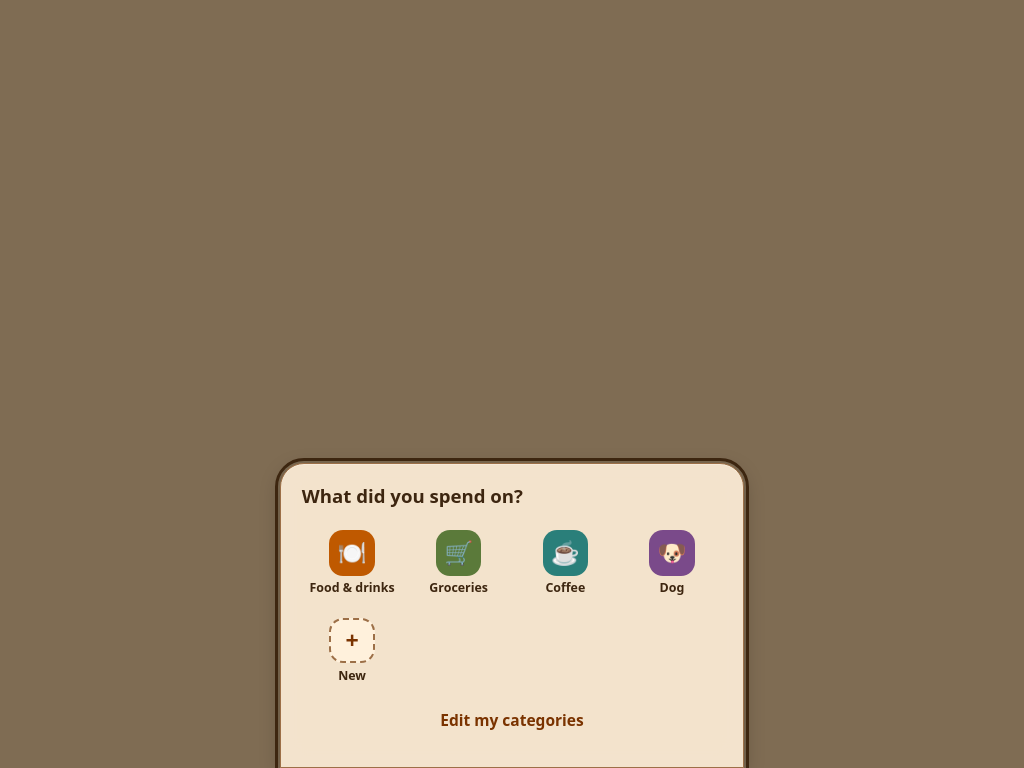
Test: PersonalSpendingSheet, refused saves › shows the translated message for MONEY_NOT_ON_CURRENCY_STEP above Save
Click the button "☕ Coffee" at (565, 563), box x1=515 y1=524 x2=616 y2=601
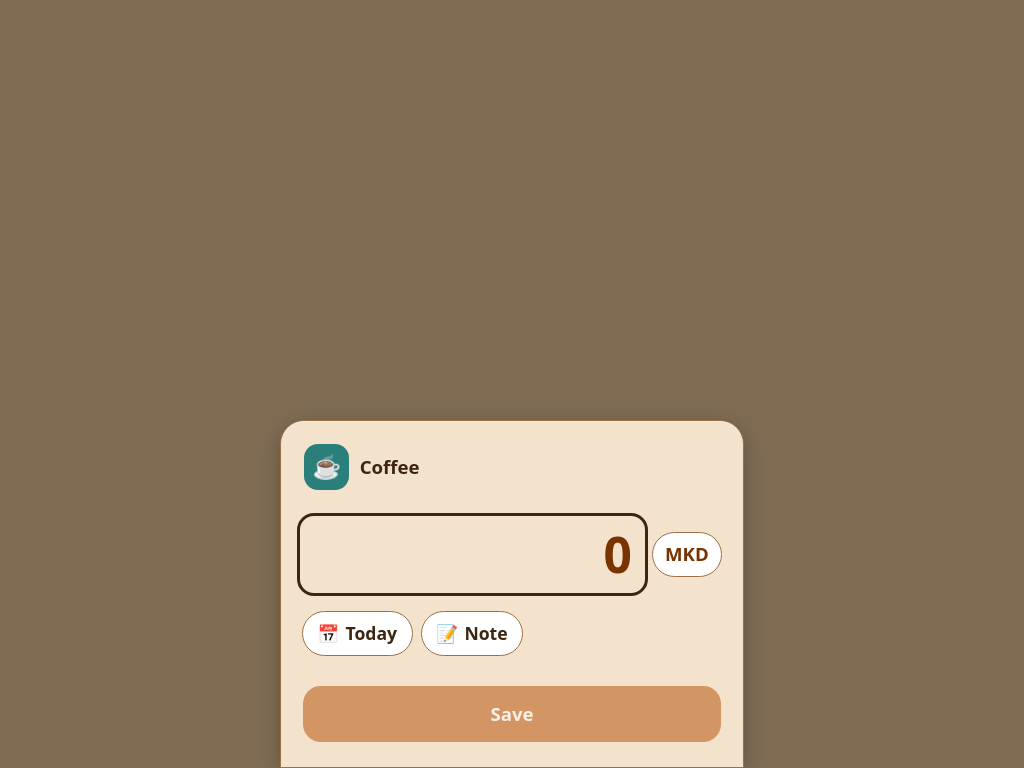
Type "120" into the field named "Amount" at (473, 554), box x1=300 y1=516 x2=646 y2=592
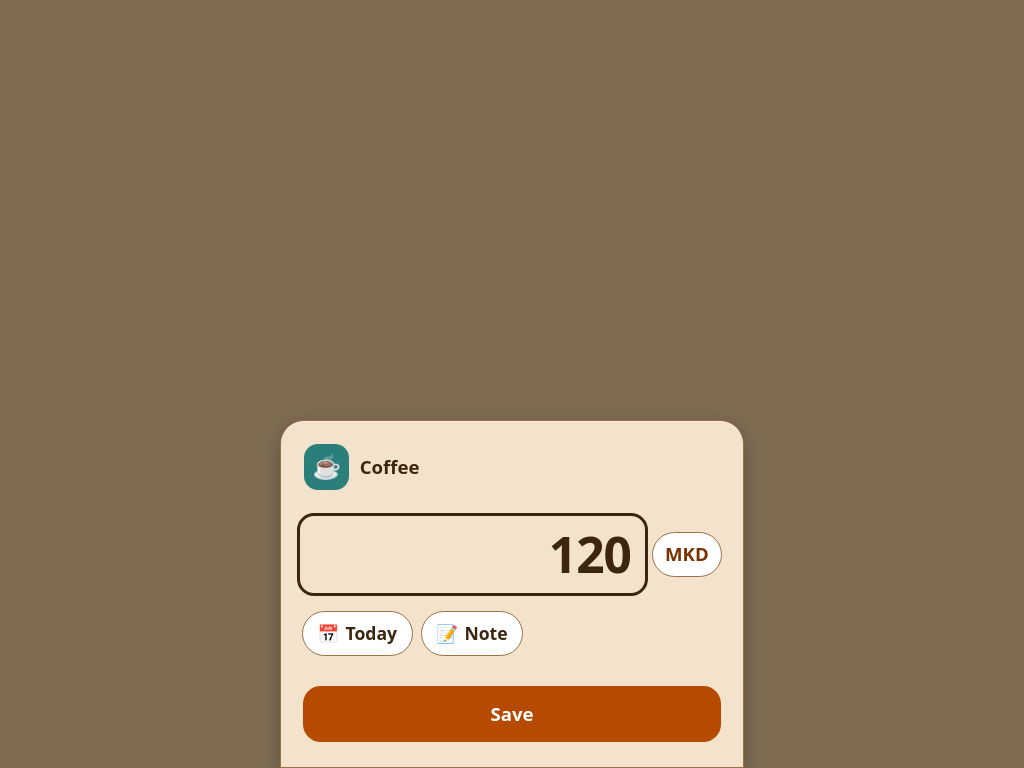
Click the button "📝 Note" at (472, 633), box x1=421 y1=610 x2=523 y2=656
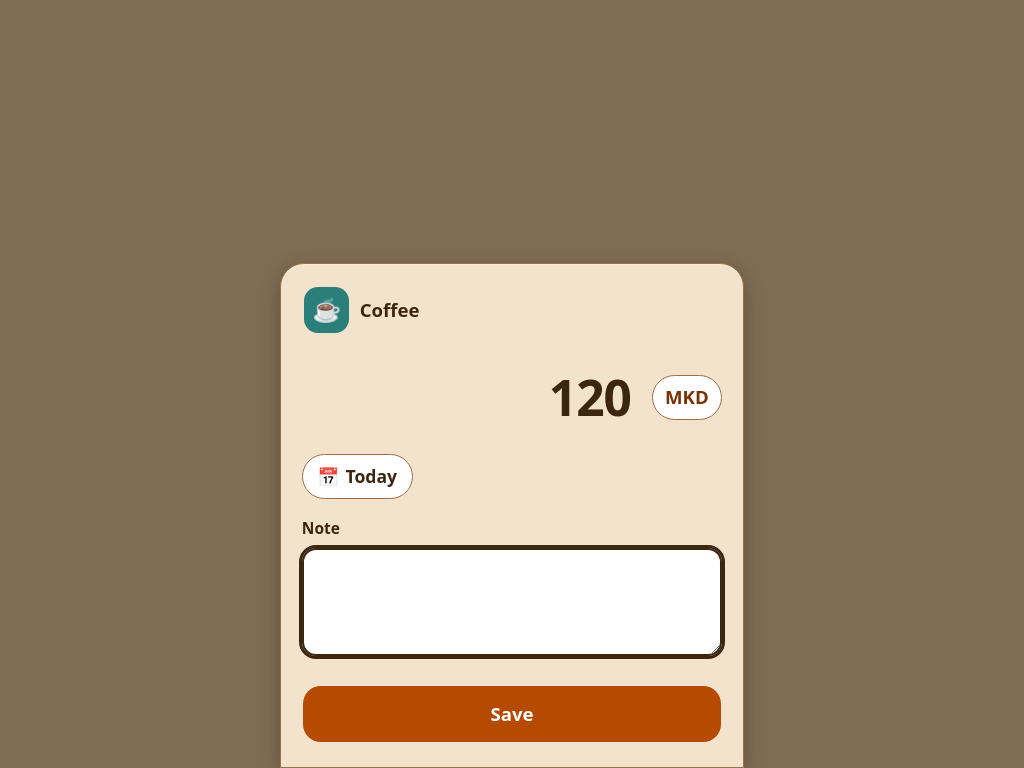
Type "for the office" into the text box labelled "Note" at (512, 602), box x1=302 y1=548 x2=722 y2=656
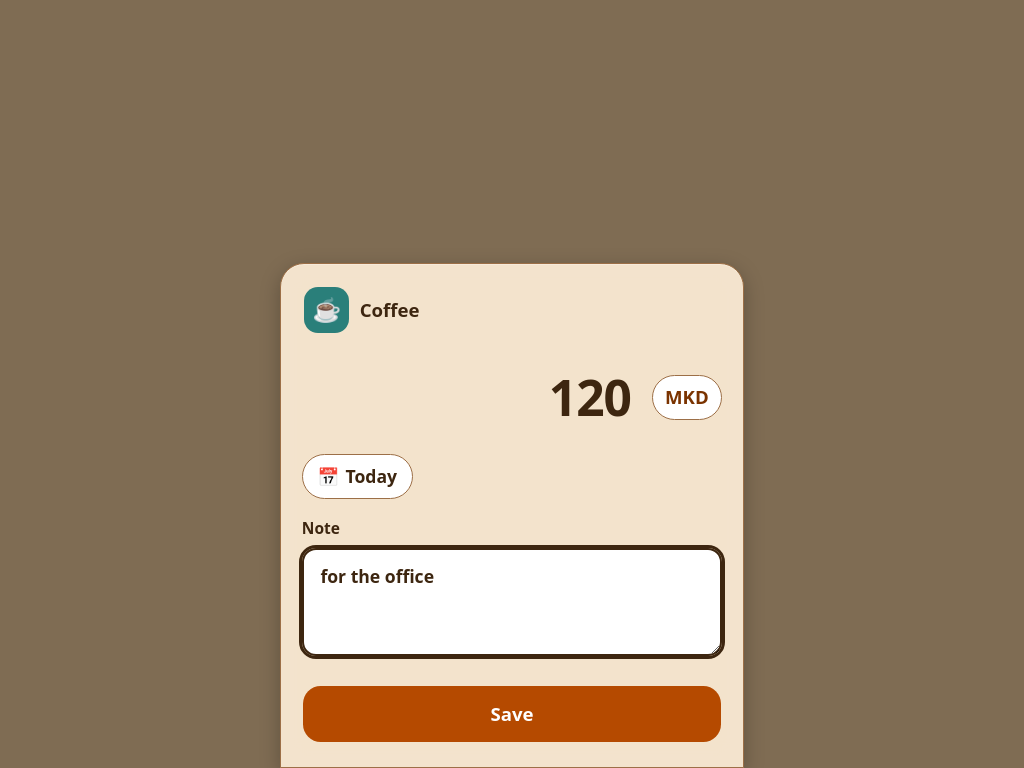
Click the button "Save" at (512, 714), box x1=302 y1=685 x2=722 y2=743
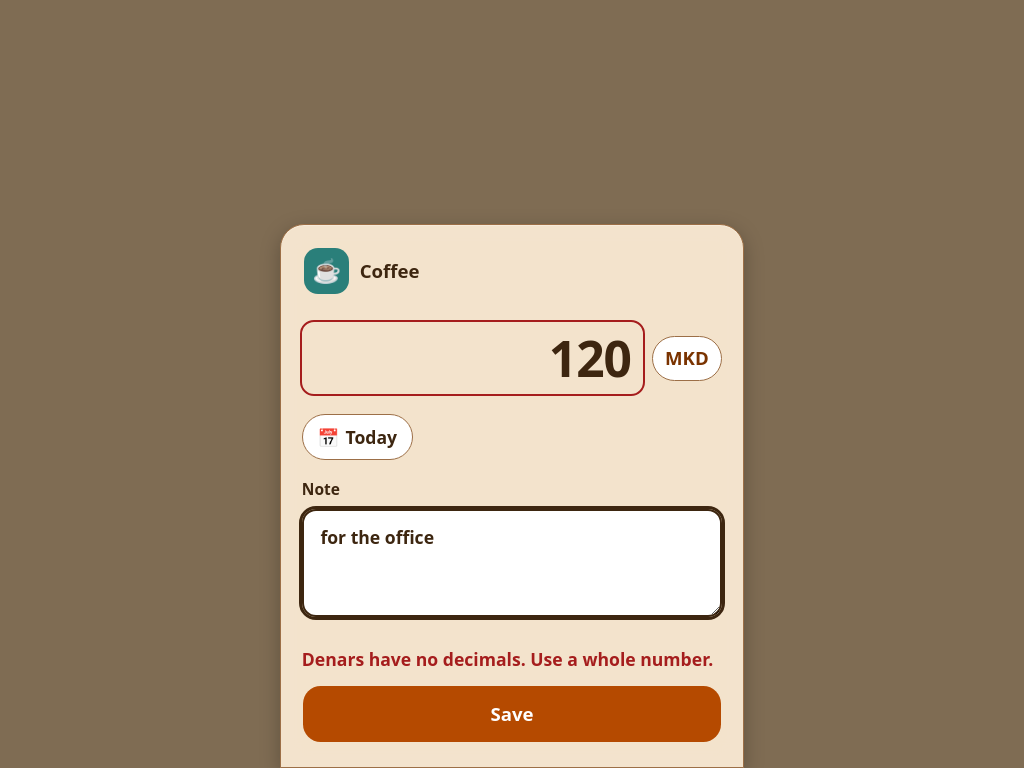
expect the message "Denars have no decimals. Use a whole number." is shown: met, box x1=302 y1=646 x2=722 y2=673
expect the message reads "Denars have no decimals. Use a whole number.": met, box x1=302 y1=647 x2=713 y2=671
